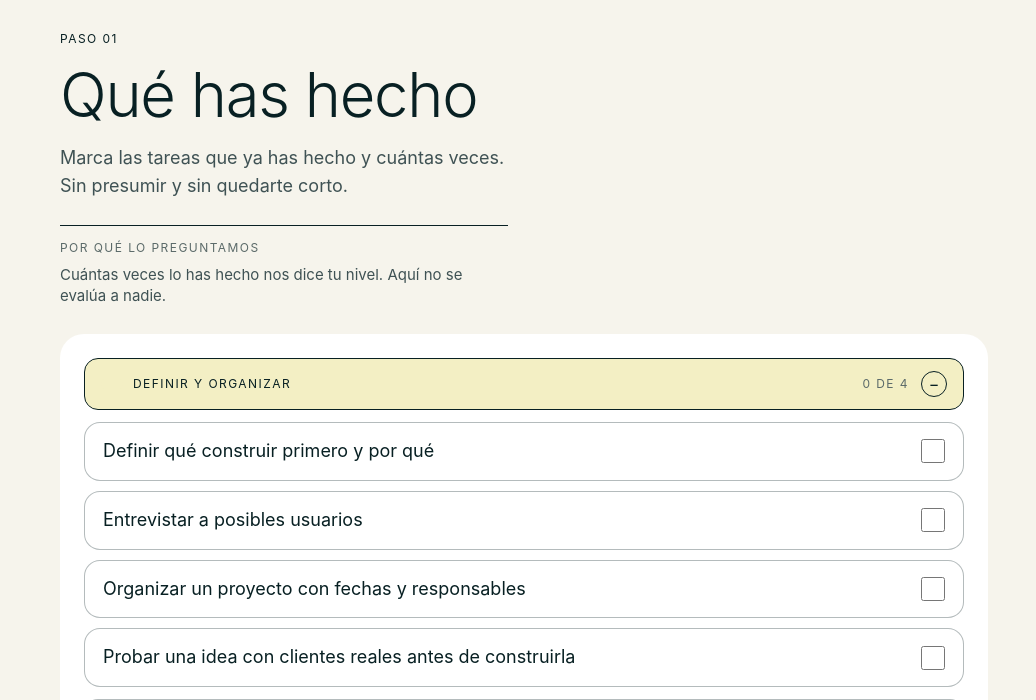
Test: TareasView › marcar una tarea empieza en "Una vez", sube los contadores y enciende el botón
The image size is (1036, 700).
Click the checkbox labelled "Definir qué construir primero y por qué": (933, 452) [921,440,945,464]
(page scrolled)
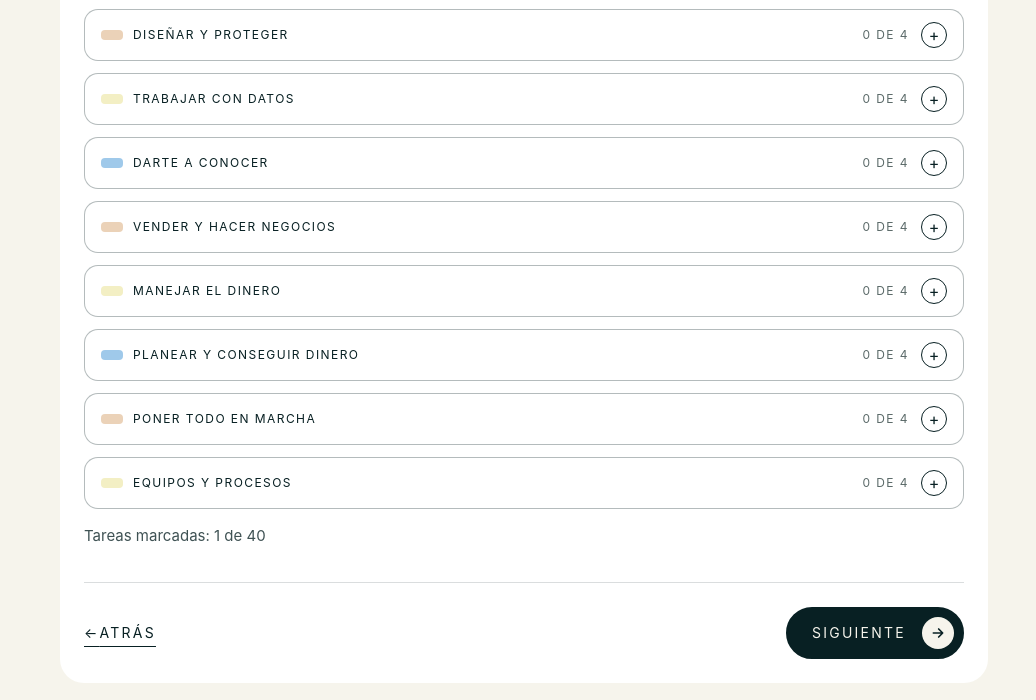
Expected: the text "Tareas marcadas: 1 de 40" is shown, [84,526,266,545]
Expected: the button "Siguiente" is enabled, [786,607,964,659]
